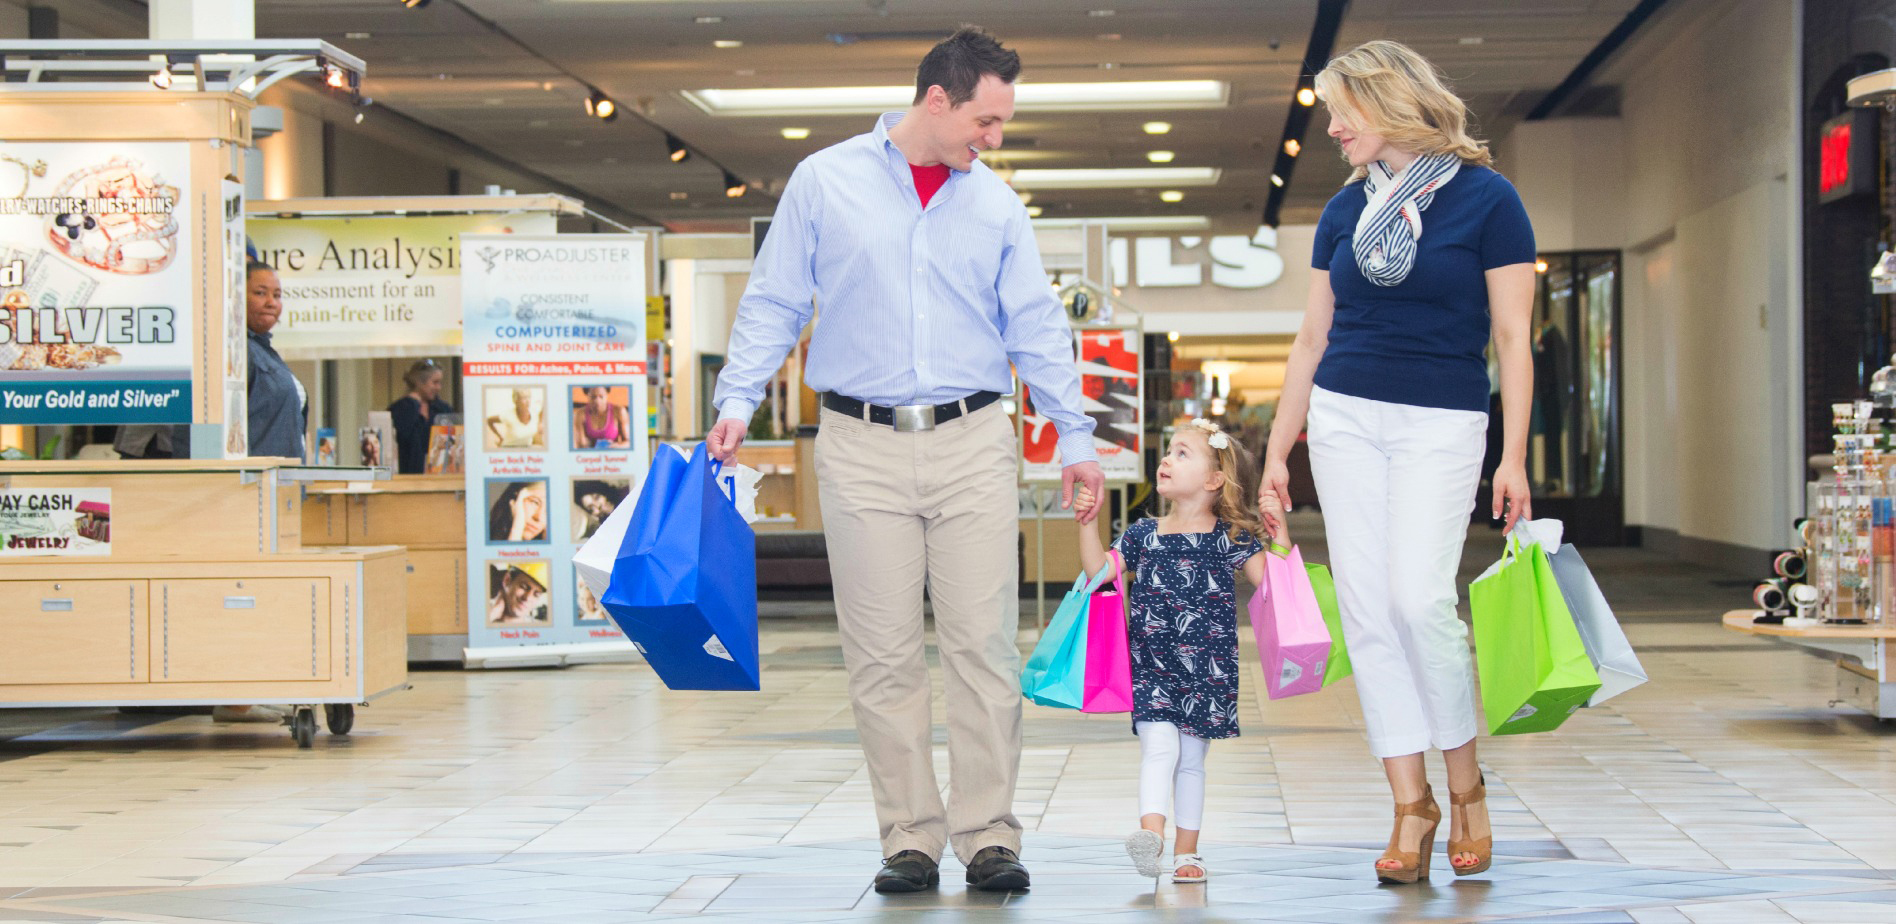Person: (669, 48, 1083, 912), (1269, 69, 1576, 855), (1097, 390, 1283, 905)
